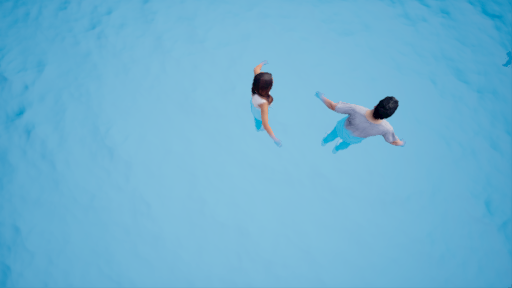person: (315, 89, 416, 156), (245, 64, 295, 148)
